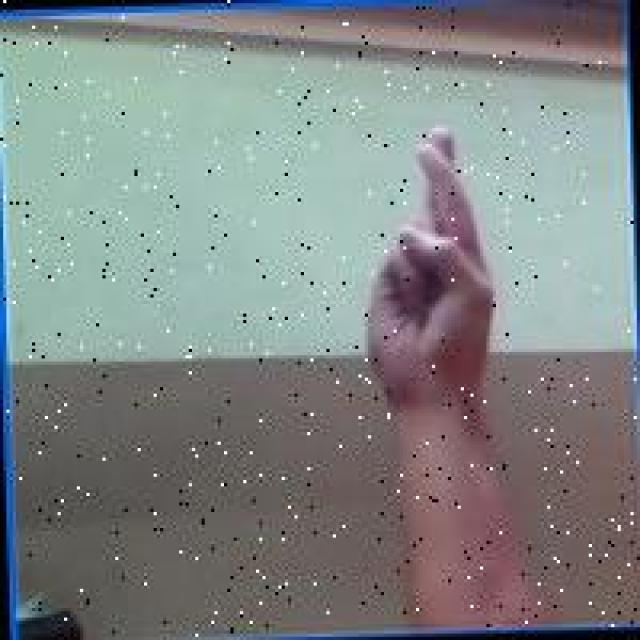R: (350, 117, 508, 430)
